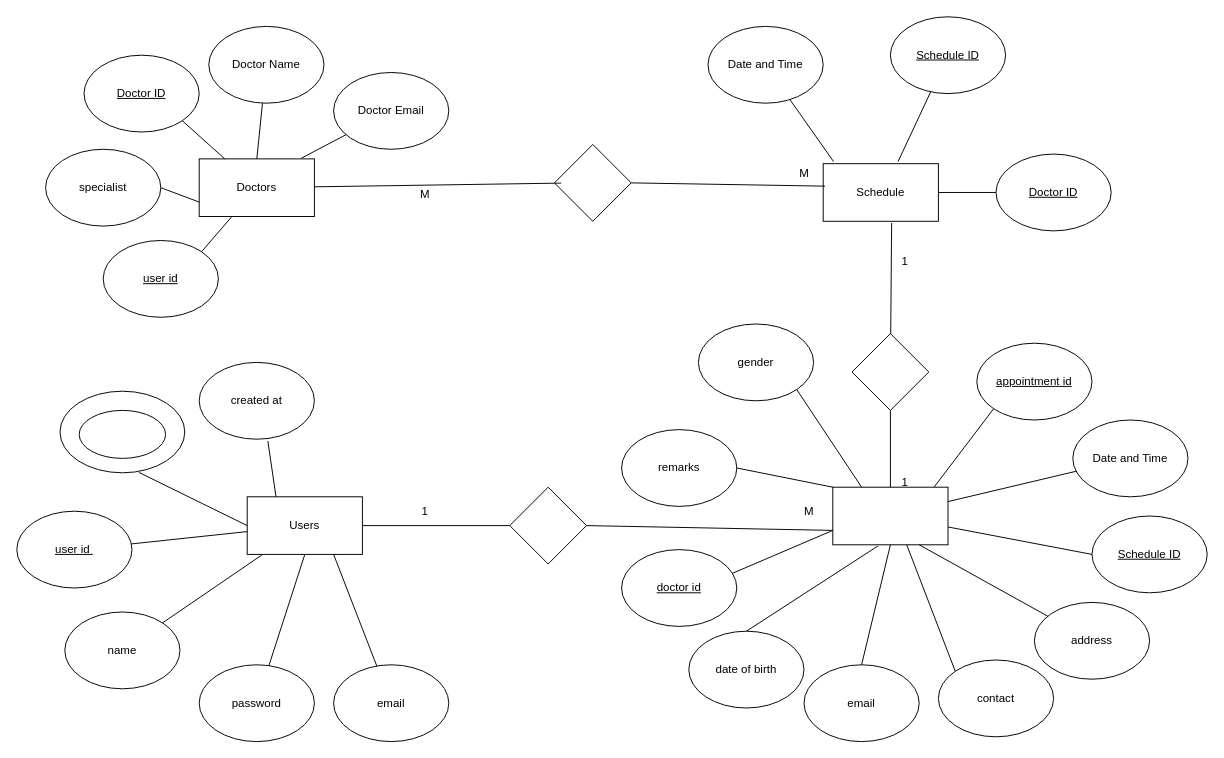
Image size: 1224x758. Some labels were removed from this diagram. The shapes that lost their labels are listed below. From the top down, each one's box as (x1, y1, x2, y2) in pixels, then its label:
(553, 144, 631, 221): Has
(851, 333, 929, 410): For
(78, 409, 166, 458): role
(509, 486, 587, 564): Takes
(832, 486, 948, 545): Appointment
